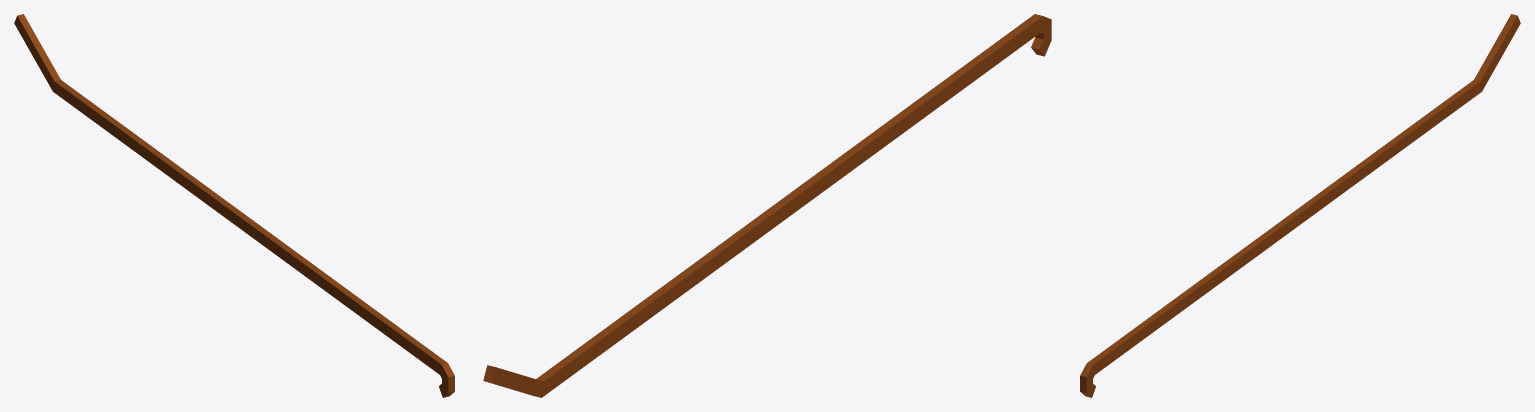
Rendered from original-41.obj.
3 renders of one model, left to right at view 1: azimuth 30°, elevation 25°; view 2: azimuth 150°, elevation 25°; view 3: azimuth 330°, elevation 25°, orthographic. The views are drawn at different scales.
Parts seen in each view (by area): view 1: mesh38/mesh38-geometry#mesh38-geometry; view 2: mesh38/mesh38-geometry#mesh38-geometry; view 3: mesh38/mesh38-geometry#mesh38-geometry.
Part boxes in pixels (x1,y1,x2,y2): mesh38/mesh38-geometry#mesh38-geometry: (14, 14, 454, 397); mesh38/mesh38-geometry#mesh38-geometry: (483, 14, 1051, 397); mesh38/mesh38-geometry#mesh38-geometry: (1080, 14, 1520, 397).
Bounding box in the file's own units: 0.00409 × 0.0426 × 0.4736.
